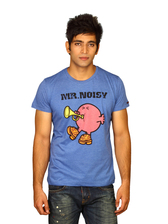clothoes: (27, 63, 133, 187)
